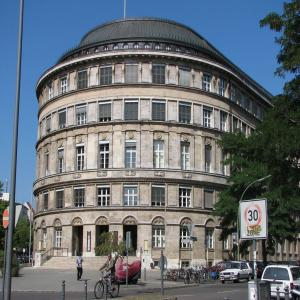Vehicle-registration-plate: (272, 285, 283, 288)
